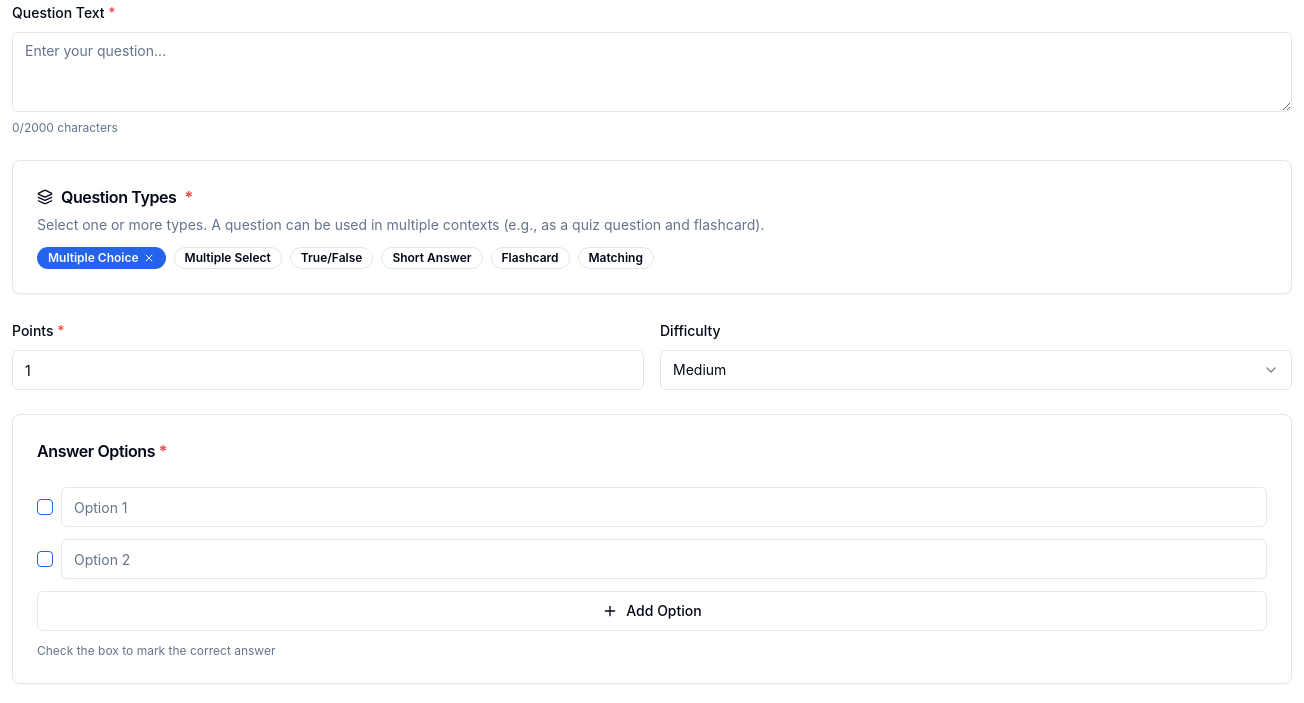
Scenario: QuestionForm › Question Type Selection › should change question type to short answer
# First add short_answer, then deselect multiple_choice
Click the text "Short Answer" at (432, 258), box [381, 247, 482, 269]
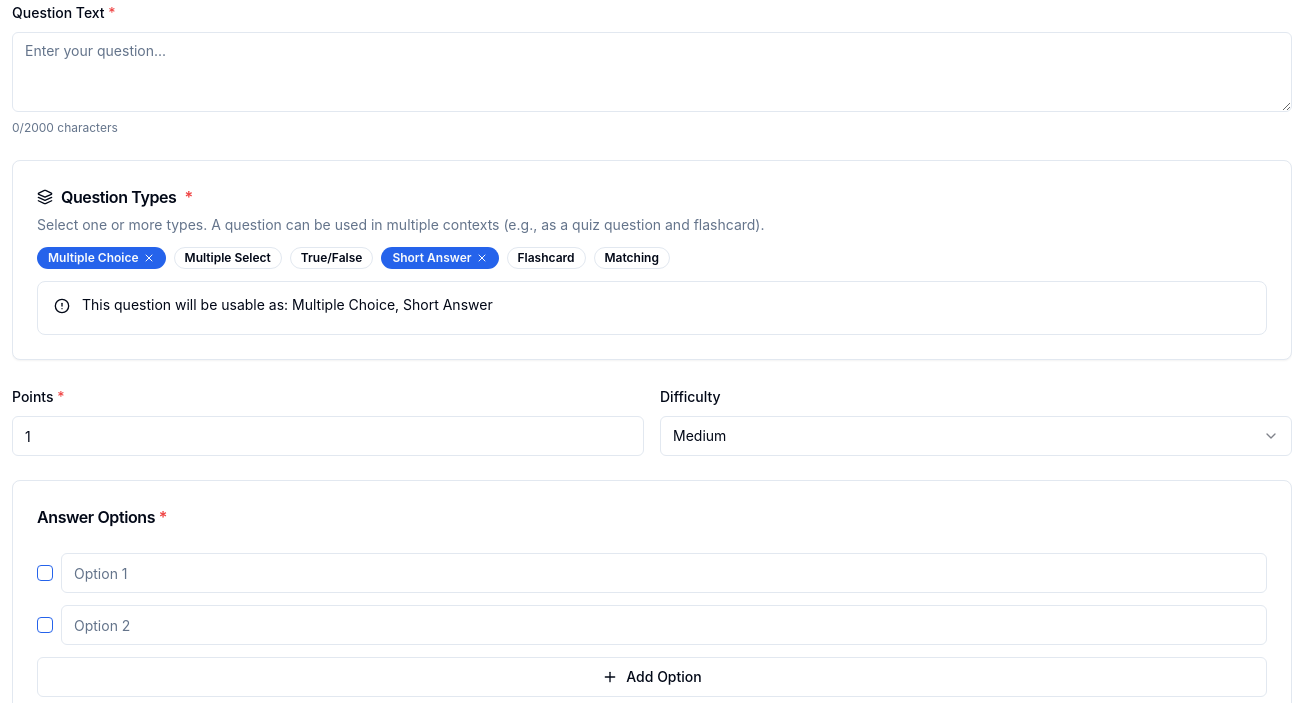
Click the text "Multiple Choice" at (101, 258), box [37, 247, 166, 269]
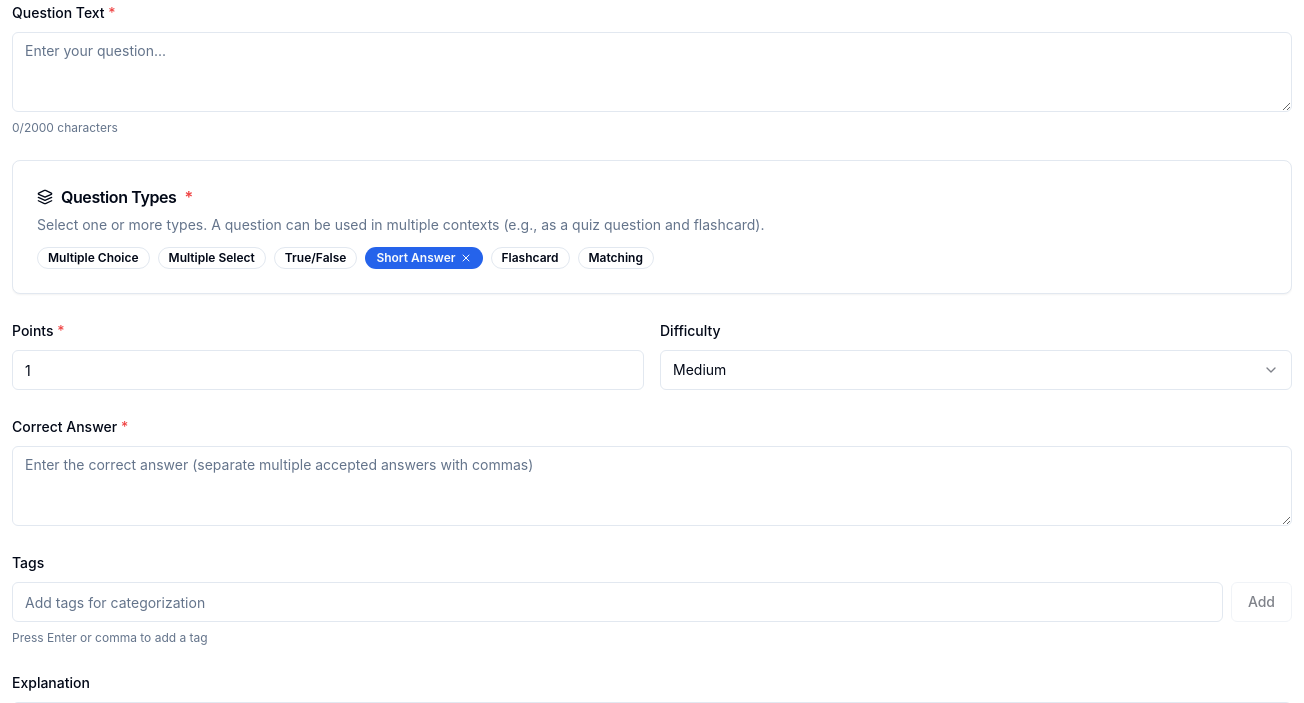
Now the text box labelled "Correct Answer *" is shown, box [12, 446, 1292, 526]
Now the heading "Answer Options" is gone
